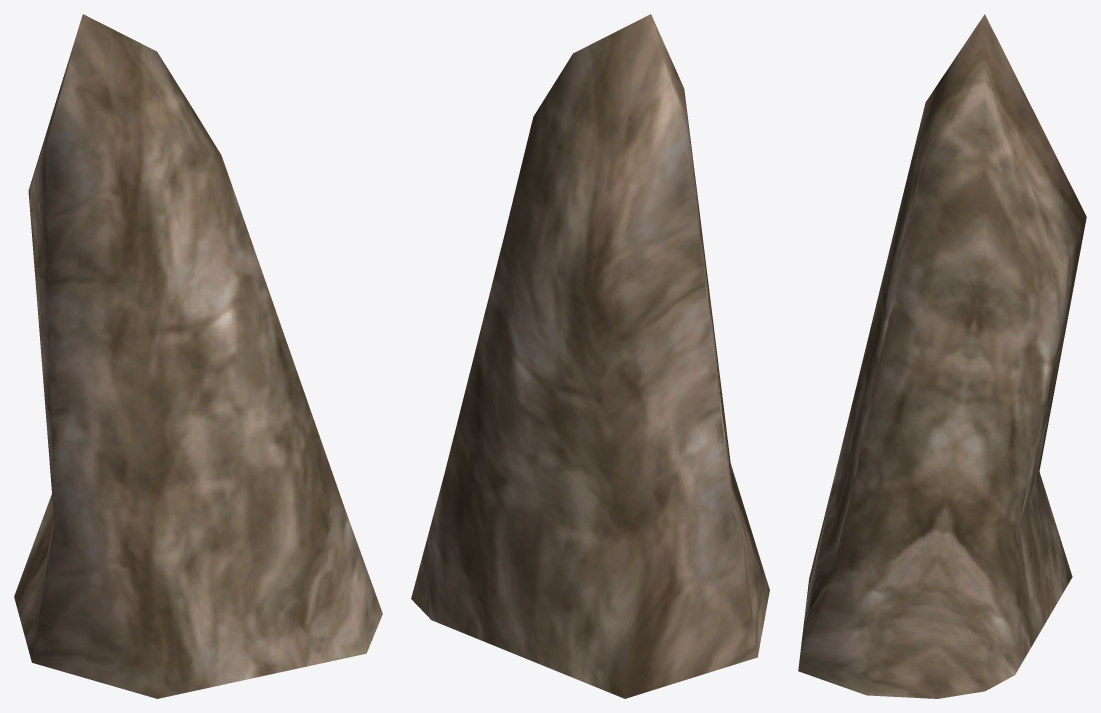
File: OVERHILL_A_01_ROCK1.fbx
3 renders of one model, left to right at view 1: azimuth 30°, elevation 25°; view 2: azimuth 150°, elevation 25°; view 3: azimuth 270°, elevation 25°, orthographic. The views are drawn at different scales.
Parts seen in each view (by area): view 1: OVERHILL_A_01_ROCK1; view 2: OVERHILL_A_01_ROCK1; view 3: OVERHILL_A_01_ROCK1.
Boxes of the visible parts, left/top/right/bottom form: OVERHILL_A_01_ROCK1: left=14, top=14, right=382, bottom=698; OVERHILL_A_01_ROCK1: left=411, top=14, right=769, bottom=698; OVERHILL_A_01_ROCK1: left=798, top=14, right=1086, bottom=698.
Size of the model in its own units: 16651 by 30325 by 13839.
1 material, 1 textured.
